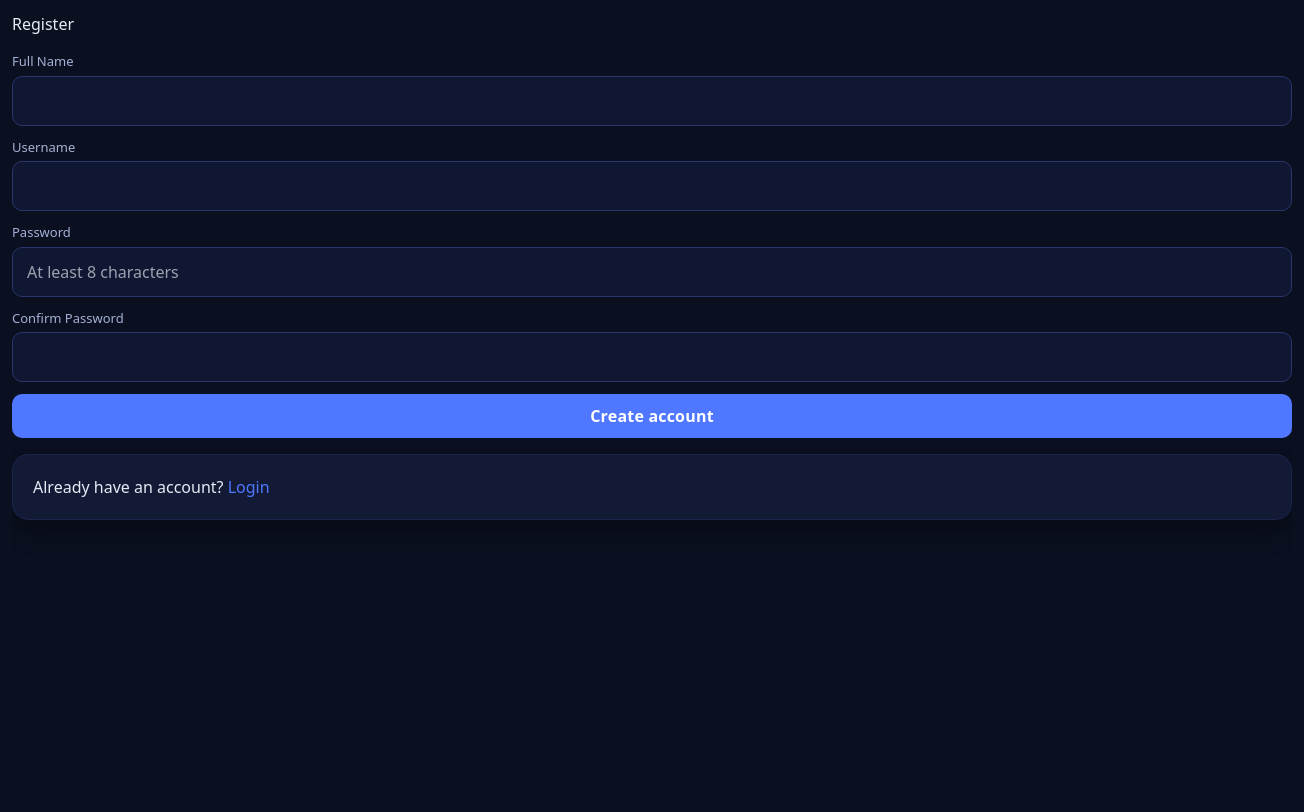
Test: RegisterPage validation › registers successfully and prompts to login
This screenshot has width=1304, height=812.
Type "John Doe" into the field labelled "Full Name" at (652, 100), box 12,76 -> 1292,126
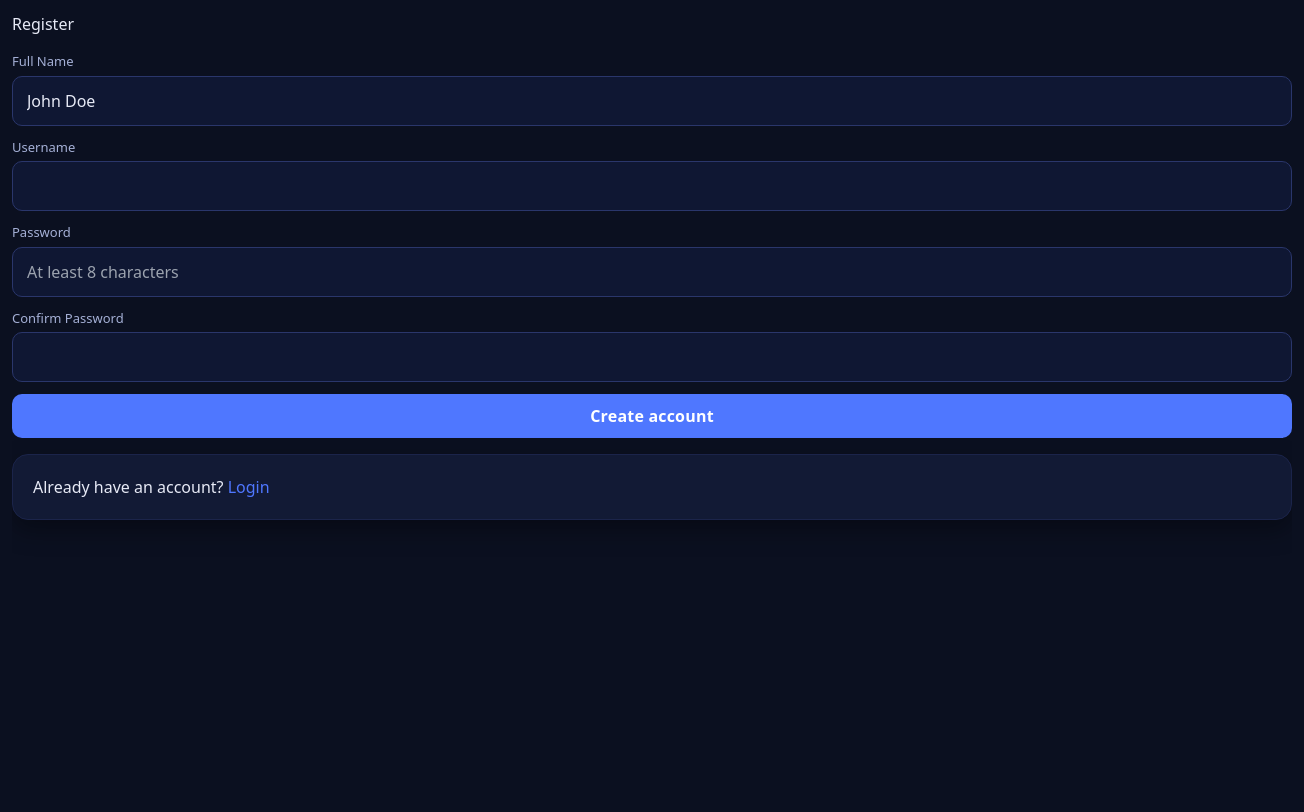
Type "john" into the field labelled "Username" at (652, 186), box 12,161 -> 1292,211
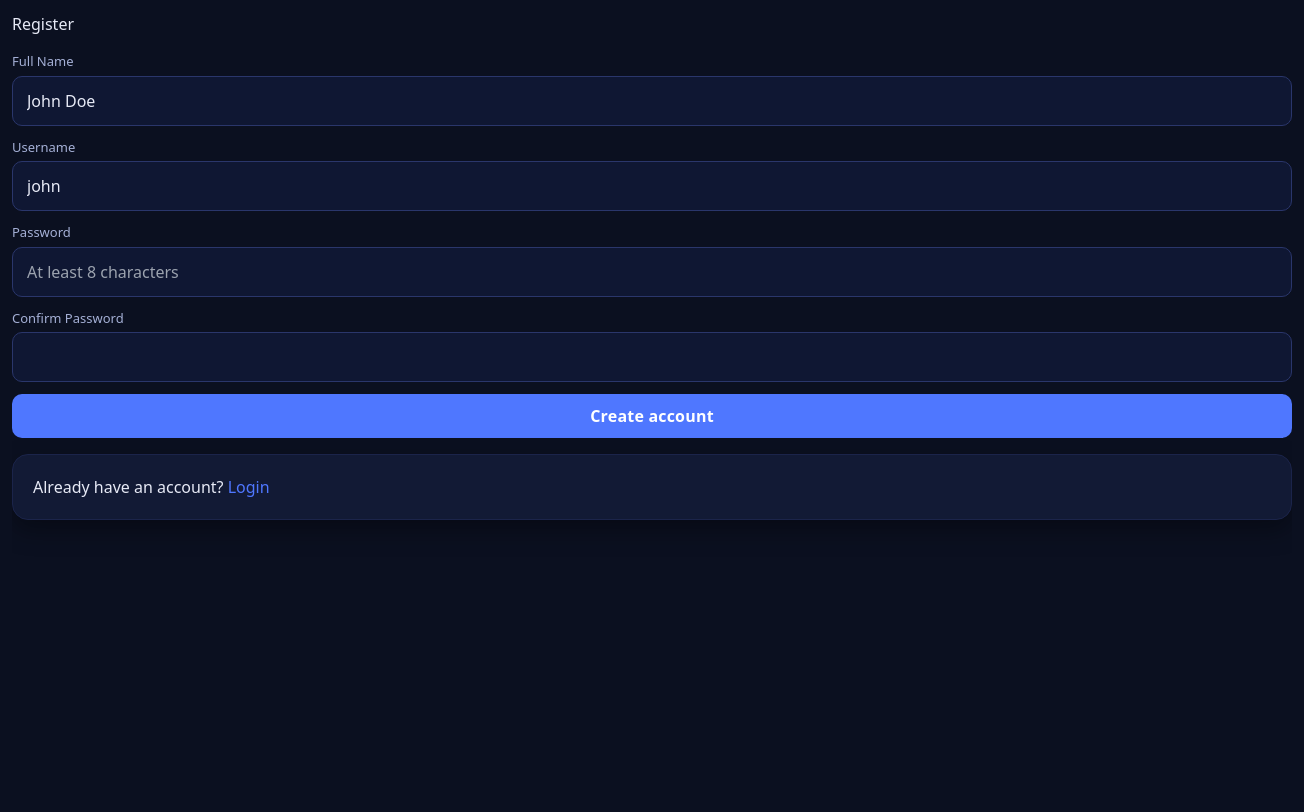
Type "password8" into the password field labelled "Password" at (652, 272), box 12,246 -> 1292,296
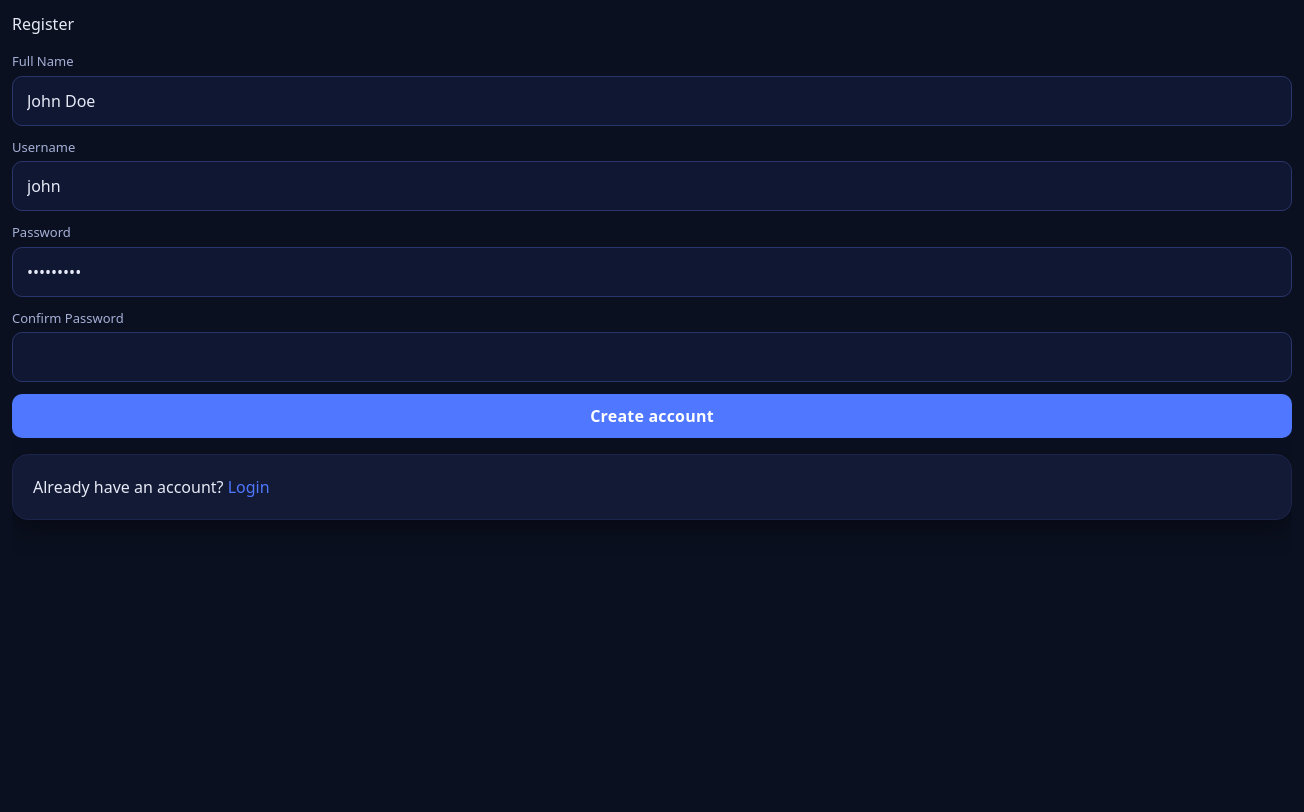
Type "password8" into the password field labelled "Confirm Password" at (652, 357), box 12,332 -> 1292,382
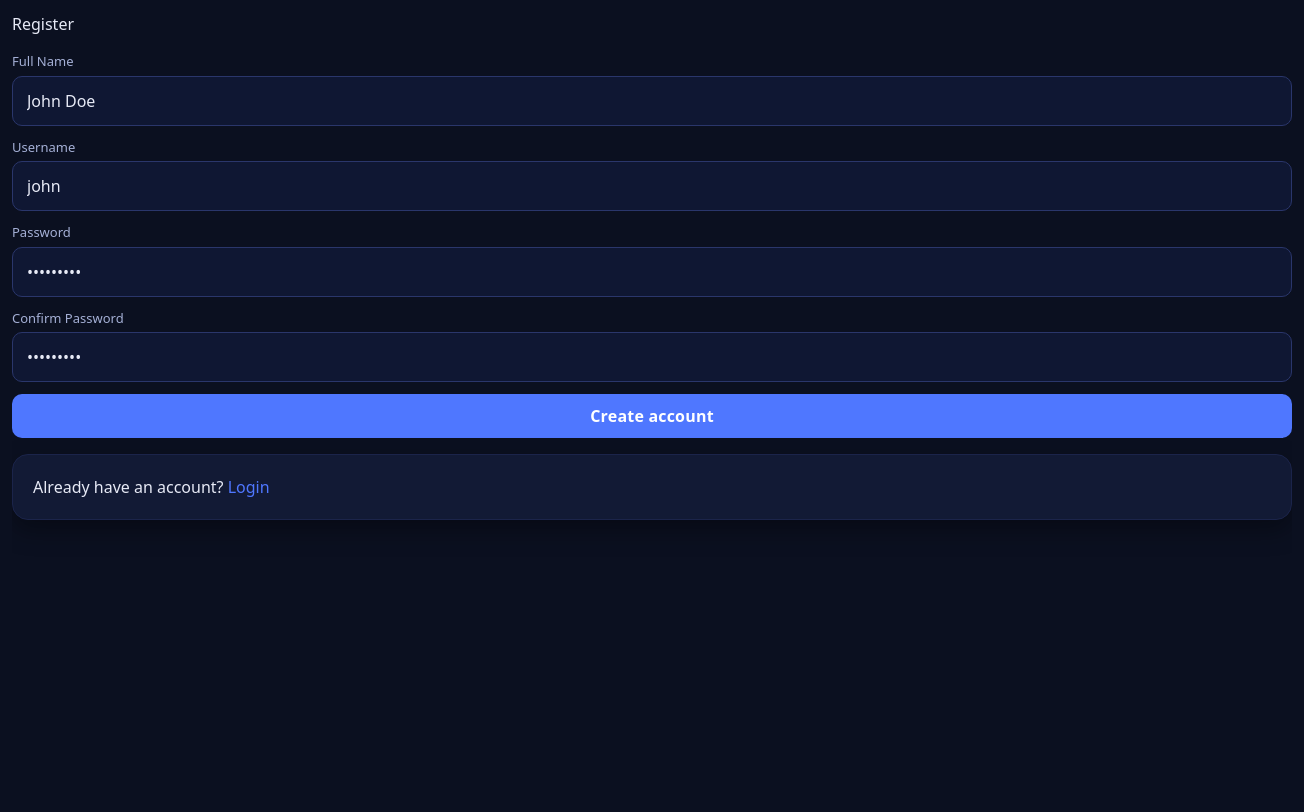
Click the button "Create account" at (652, 416), box 12,394 -> 1292,438
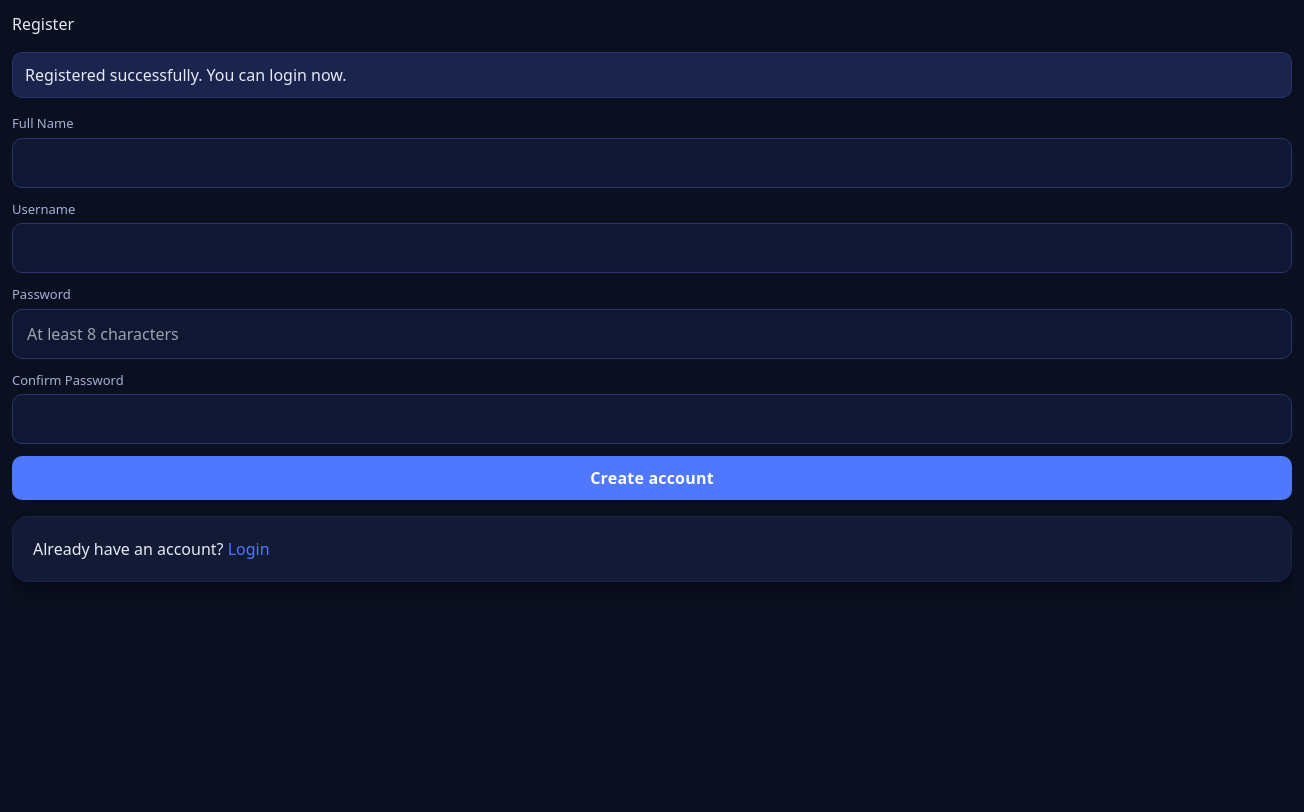
Check: the text "Registered successfully. You can login now." is shown, box 12,52 -> 1292,98
